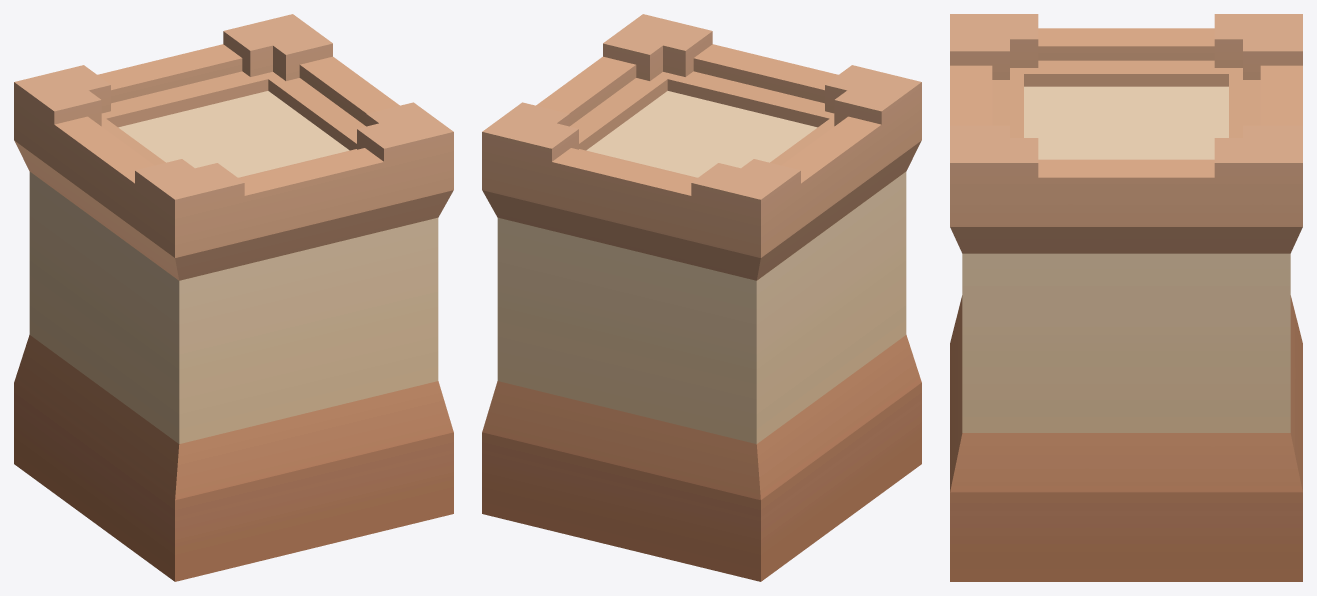
File: tower-square.glb
3 views of the same model, side by side, from view 1: azimuth 30°, elevation 25°; view 2: azimuth 150°, elevation 25°; view 3: azimuth 270°, elevation 25° (orthographic). The views are drawn at different scales.
Parts seen in each view (by area): view 1: tower-square; view 2: tower-square; view 3: tower-square.
Boxes of the visible parts, x1,y1,x2,y2 form: tower-square: (14, 14, 453, 581); tower-square: (482, 14, 921, 581); tower-square: (950, 14, 1302, 581).
Size of the model in its own units: 1 by 1.31 by 1.
1 material, 1 textured.
